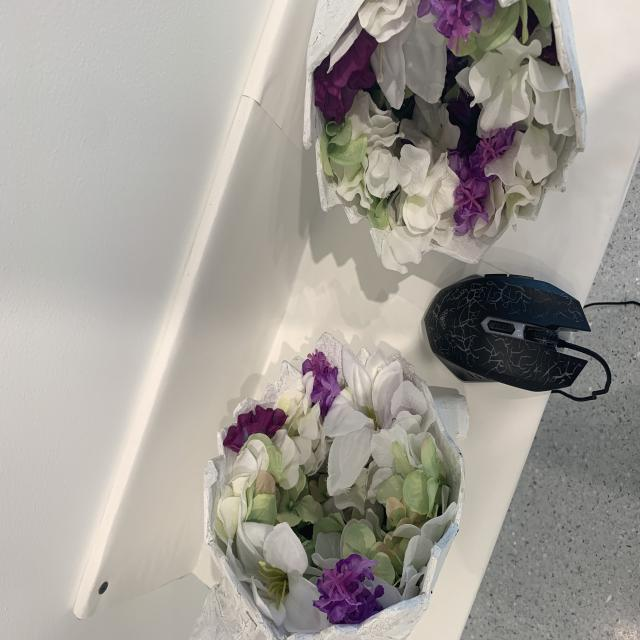Mouse: (419, 264, 616, 414)
